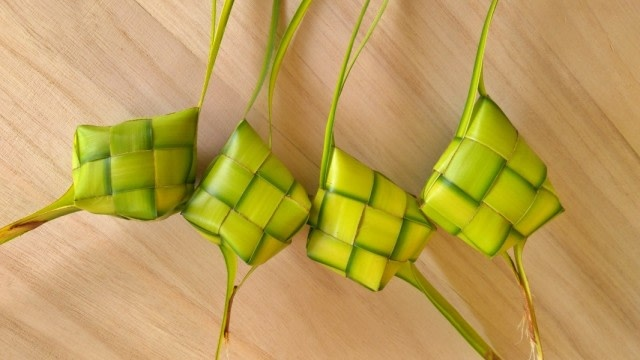ketupat: (413, 94, 565, 258), (179, 119, 311, 268), (305, 145, 435, 293), (71, 106, 201, 223)
